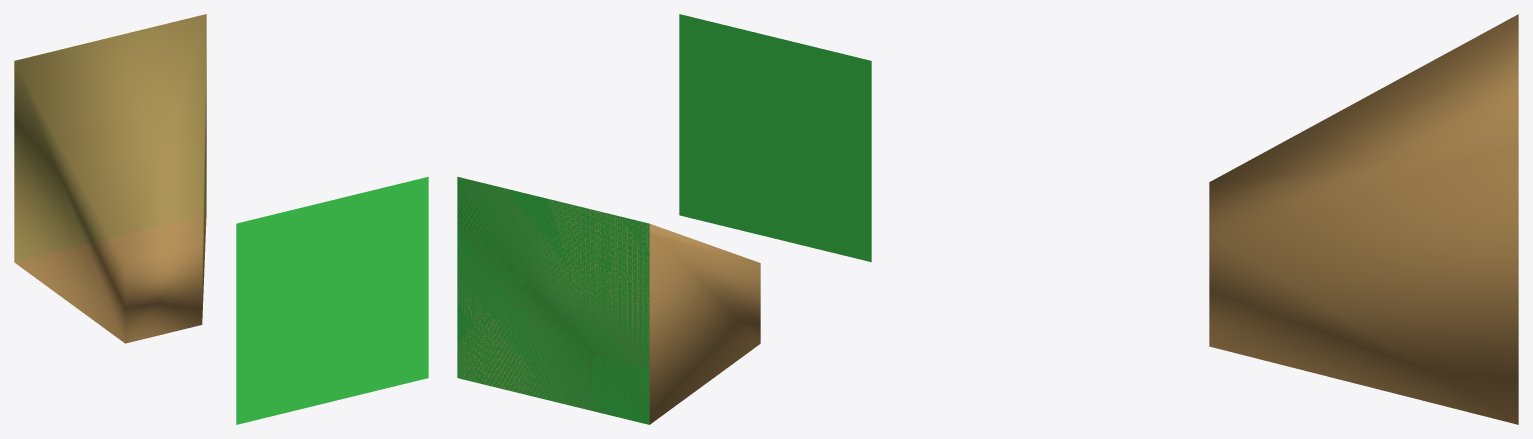
The model's file is mixed_scene.obj.
3 views of the same model, side by side, from view 1: azimuth 30°, elevation 25°; view 2: azimuth 150°, elevation 25°; view 3: azimuth 270°, elevation 25° (orthographic). The views are drawn at different scales.
Parts seen in each view (by area): view 1: shape_1, shape_2; view 2: shape_2, shape_1; view 3: shape_1.
Part boxes in pixels (bbox=[...]): shape_1: bbox=[14, 14, 206, 343]; shape_2: bbox=[236, 176, 428, 424]; shape_2: bbox=[457, 14, 871, 424]; shape_1: bbox=[457, 177, 760, 424]; shape_1: bbox=[1209, 14, 1518, 424].
Bounding box in the file's own units: 1 × 1 × 2.
